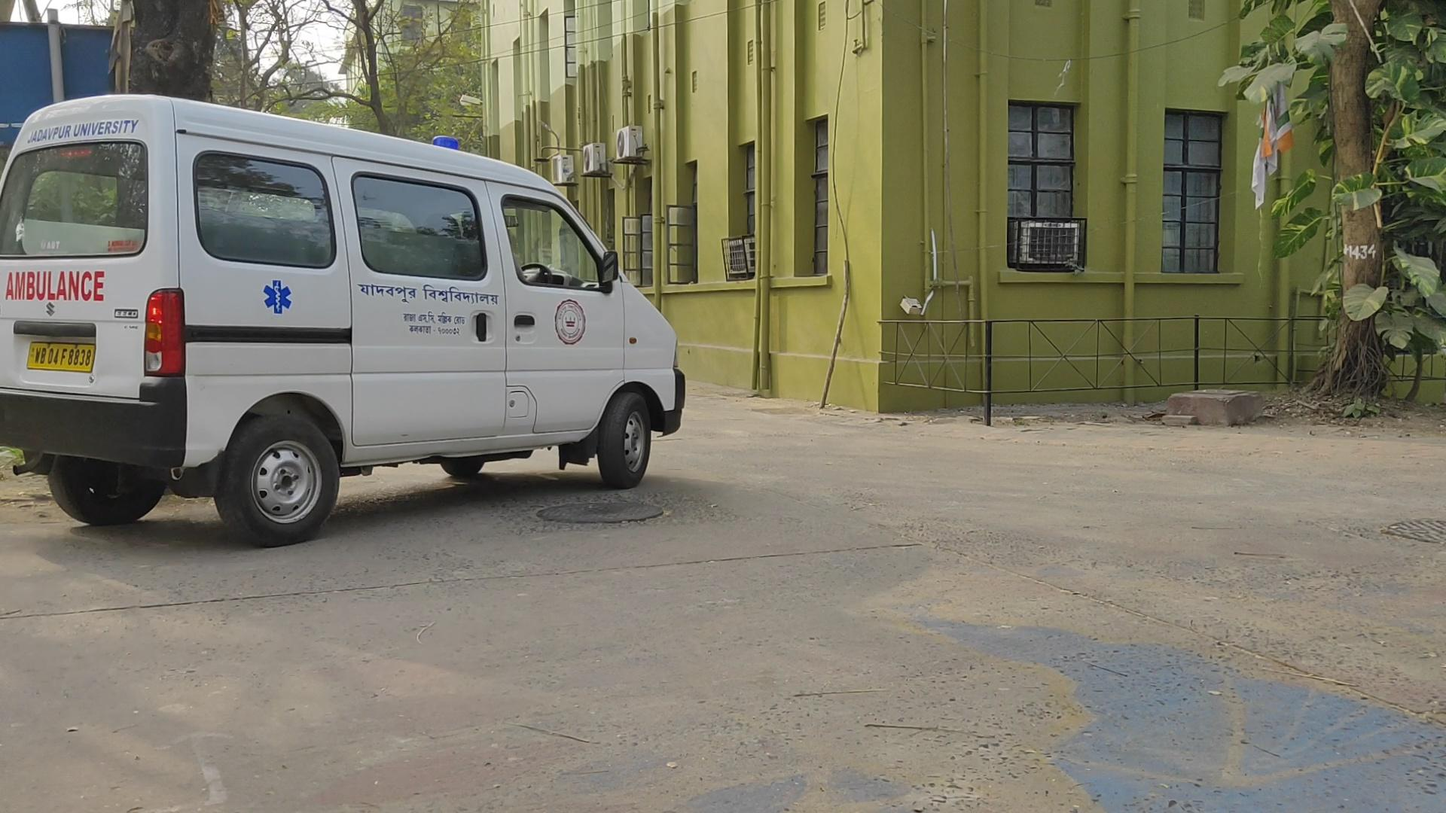van: (1, 99, 682, 547)
